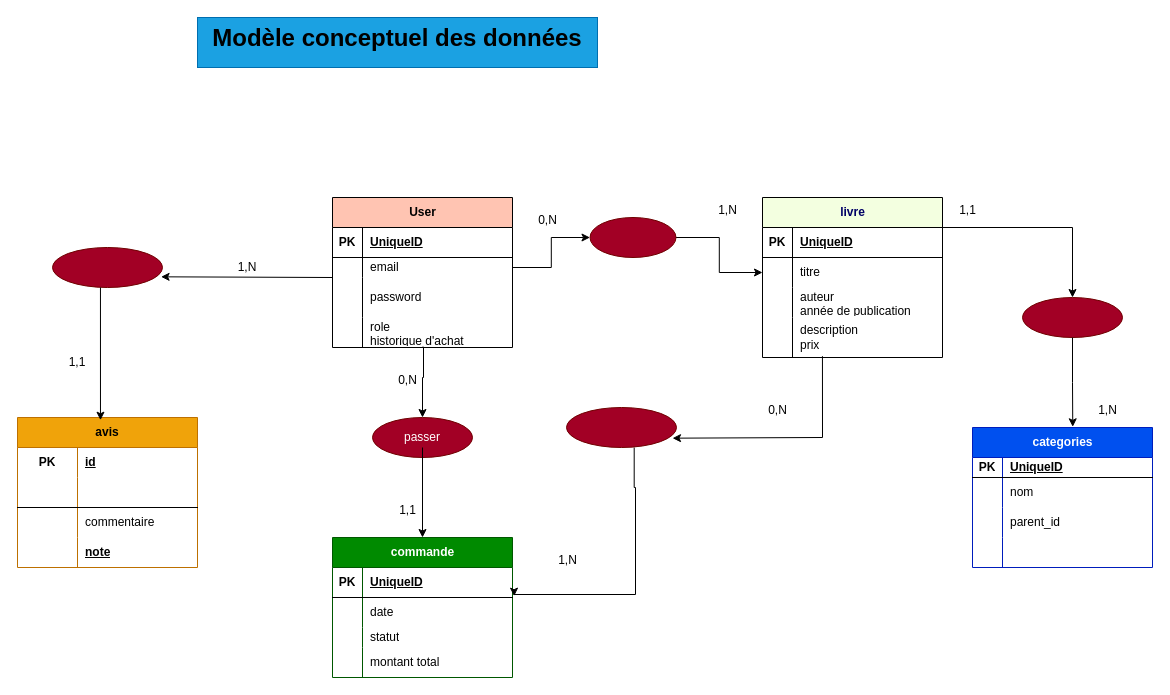
This 1170x695 diagram has some shape labels left out. The shapes that lost their labels are listed below. From the top down, each one's centre as x and y in pixels, then its label:
At [632,237]: "commander".
At [107,267]: "donner".
At [1072,317]: "avoir".
At [621,427]: "appartenir".
